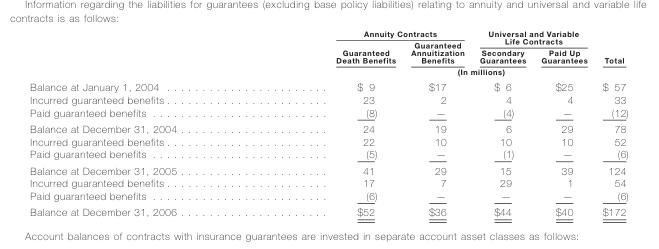table: (29, 28, 627, 217)
table column: (29, 28, 255, 217), (255, 28, 402, 217), (402, 28, 471, 217), (532, 28, 594, 217), (471, 28, 532, 217), (594, 28, 627, 217)
table column header: (29, 28, 627, 78)
table row: (29, 46, 627, 65), (29, 78, 627, 93), (29, 105, 627, 120), (29, 161, 627, 176), (29, 120, 627, 134), (29, 147, 627, 161), (29, 189, 627, 203), (29, 203, 627, 217), (29, 65, 627, 78), (29, 134, 627, 147), (29, 176, 627, 189), (29, 93, 627, 105), (29, 28, 627, 38), (29, 38, 627, 46)
table spanning cell: (255, 65, 627, 78), (255, 38, 402, 65), (471, 28, 594, 46), (255, 28, 471, 38), (402, 38, 471, 65), (594, 28, 627, 65)
